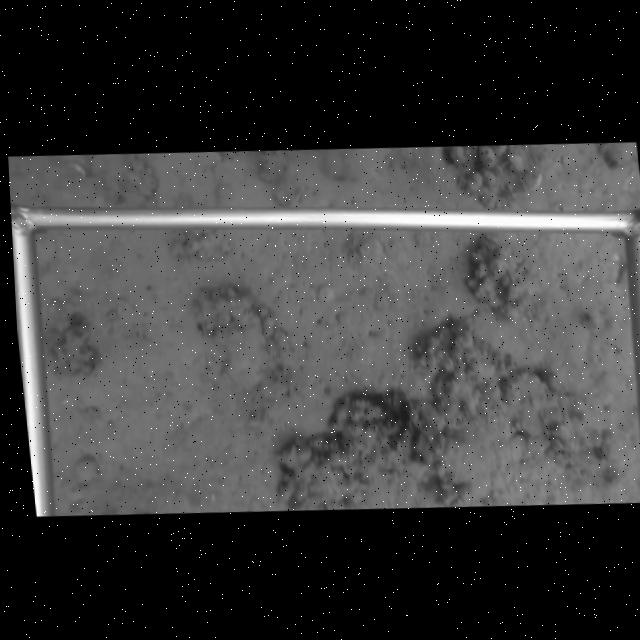Oyster-Indeterminate: (198, 285, 273, 391)
